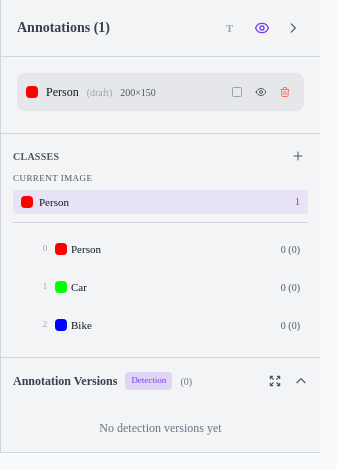
Test: RightPanel - Annotation List Display › Annotation Deletion › should show loading state during deletion
Step 1. Click the button titled "Delete annotation" → coordinates (285, 92), box [275,82,295,102]
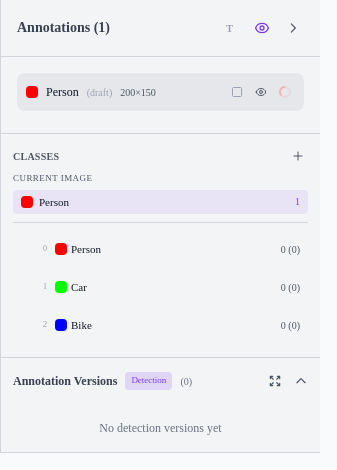
Expected: the button titled "Delete annotation" is disabled, [275,82,295,102]
